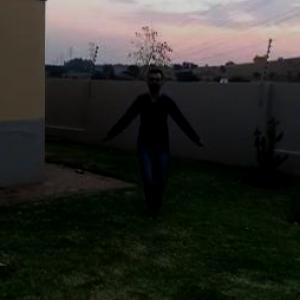land: (105, 71, 204, 211)
